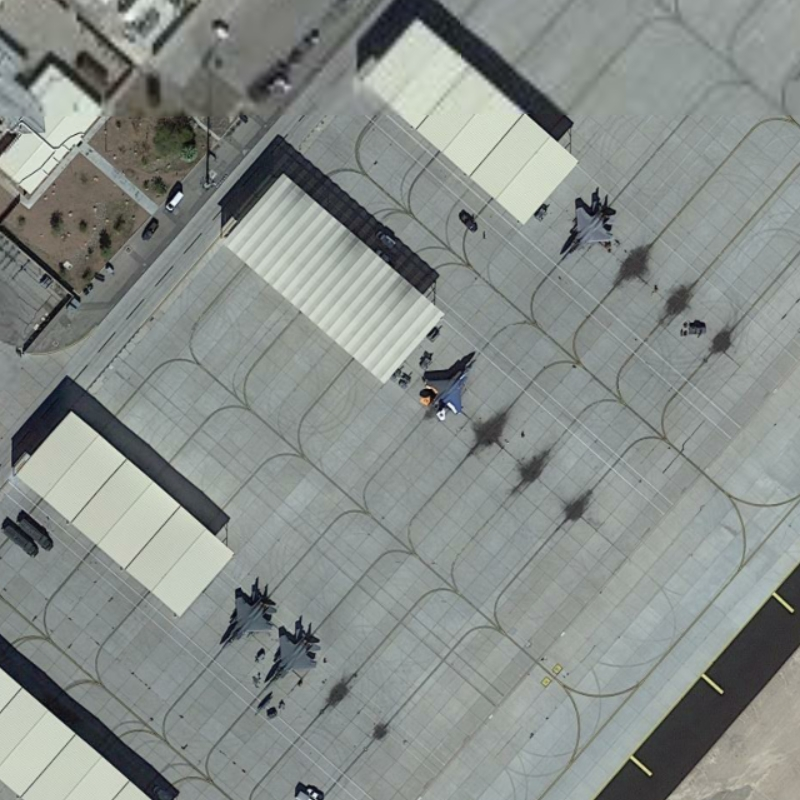A13: (215, 574, 279, 660), (415, 349, 488, 422), (560, 185, 629, 261), (257, 622, 323, 688)
